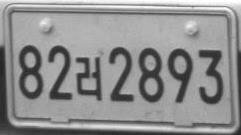2: (47, 44, 73, 100), (108, 46, 134, 102)
3: (198, 48, 224, 105)
8: (137, 46, 164, 103), (17, 43, 43, 100)
9: (166, 47, 194, 103)
러: (75, 56, 102, 101)
